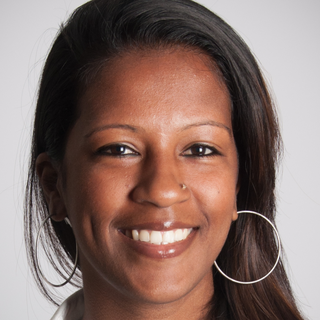eye: (92, 139, 141, 163), (179, 140, 223, 164)
